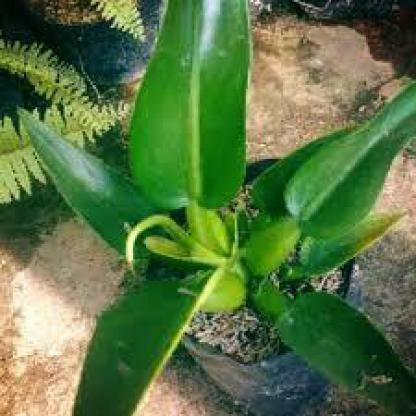Melati: (1, 167, 209, 409), (114, 1, 297, 163)
